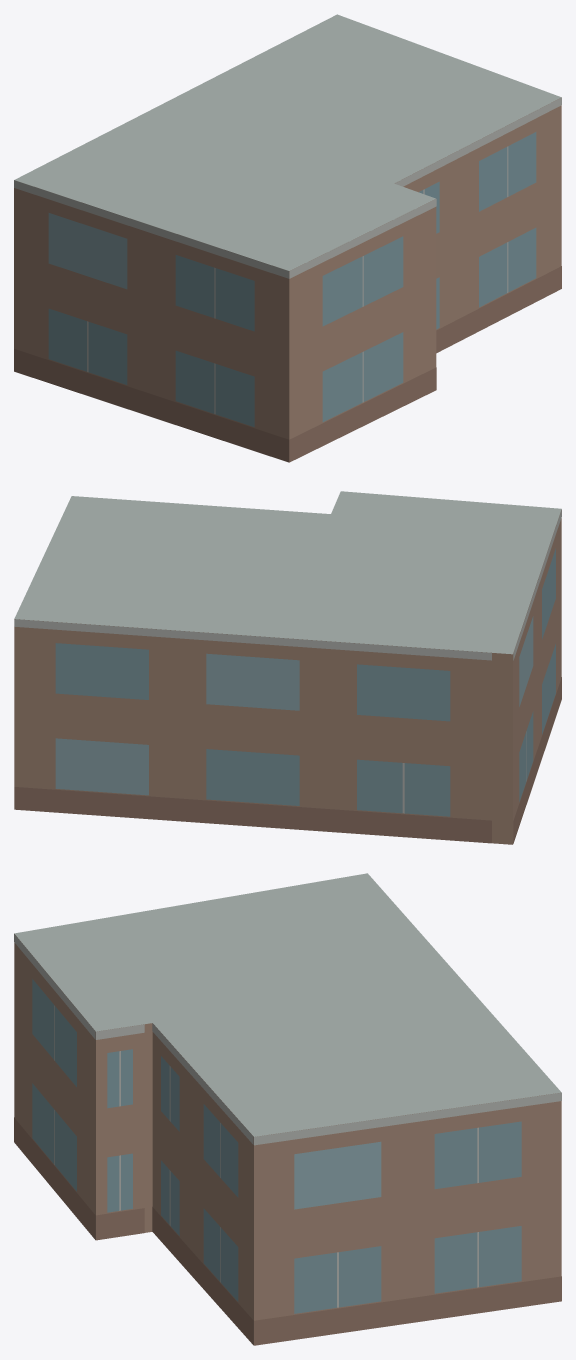
Rendered from survey-upis-32843094.glb.
The picture shows the model from 3 angles, top to bottom: view 1: azimuth 30°, elevation 25°; view 2: azimuth 150°, elevation 25°; view 3: azimuth 270°, elevation 25°; orthographic projection. The views are drawn at different scales.
Visible parts, largest first — view 1: survey-upis-32843094.tmp; view 2: survey-upis-32843094.tmp; view 3: survey-upis-32843094.tmp.
Part boxes in pixels (<box>): survey-upis-32843094.tmp: <box>14,14,561,462</box>; survey-upis-32843094.tmp: <box>14,491,561,844</box>; survey-upis-32843094.tmp: <box>14,873,561,1345</box>.
Bounding box in the file's own units: 15.18 × 5.6 × 13.32.
